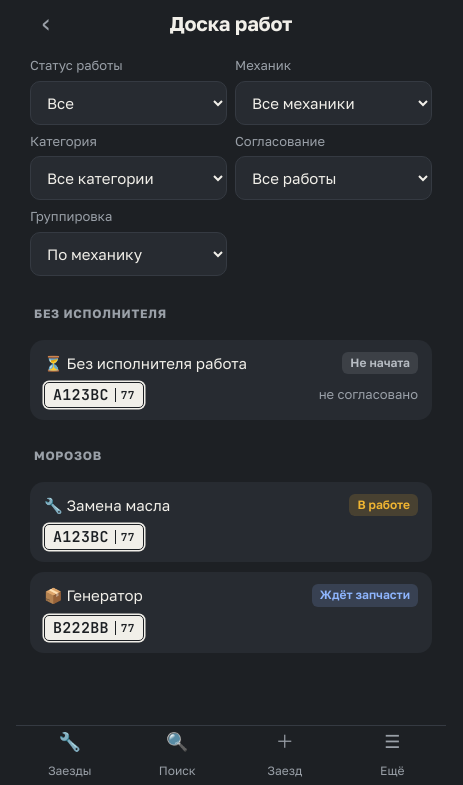
Test case: board filters go to the server
The image size is (463, 785).
Expected: the heading "Морозов" is shown, [34,448,102,463]
Select "Без исполнителя" in the dropdown labelled "Механик" at (334, 102), box [235,80,432,124]
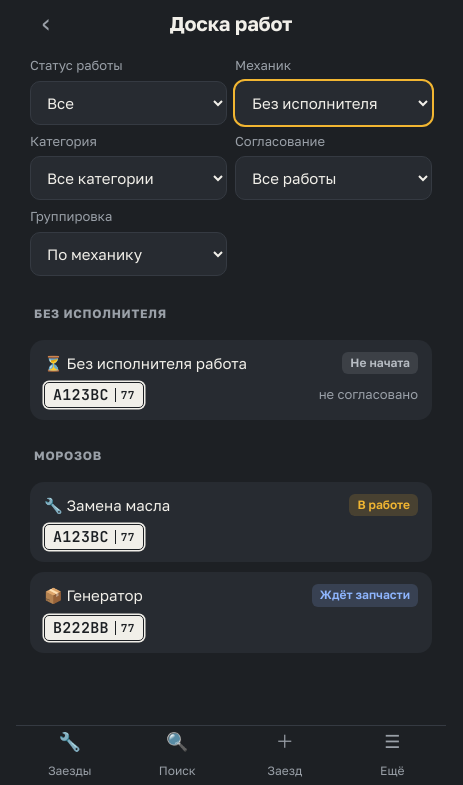
Select "Морозов" in the dropdown labelled "Механик" at (334, 102), box [235,80,432,124]
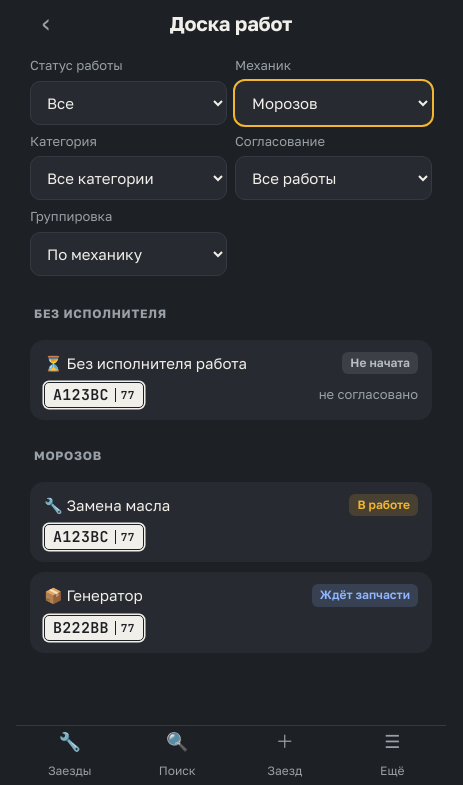
Select "Ждут запчасти" in the dropdown labelled "Статус работы" at (128, 102), box [30,80,227,124]
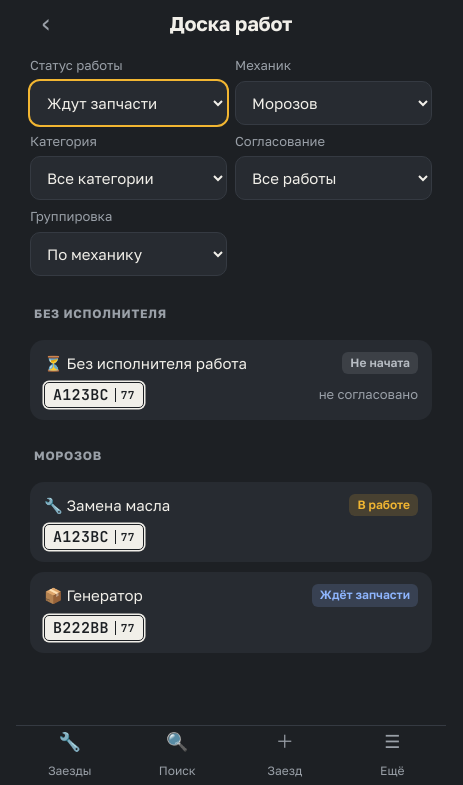
Select "Электрика" in the dropdown labelled "Категория" at (128, 178), box [30,156,227,200]
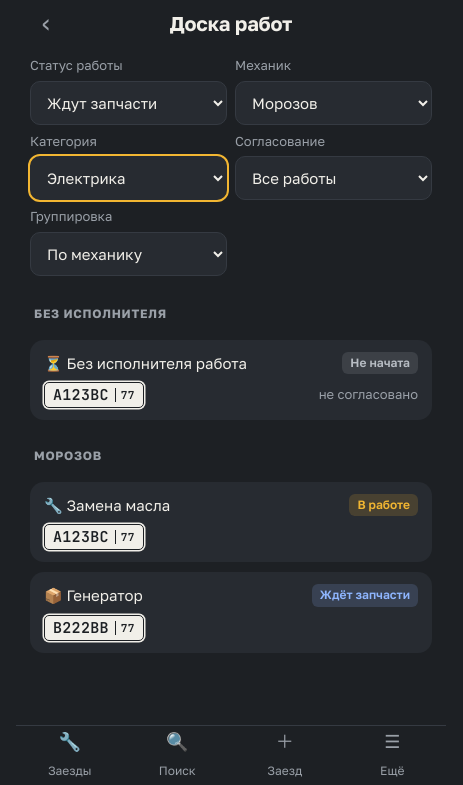
Select "Только не согласованные" in the dropdown labelled "Согласование" at (334, 178), box [235,156,432,200]
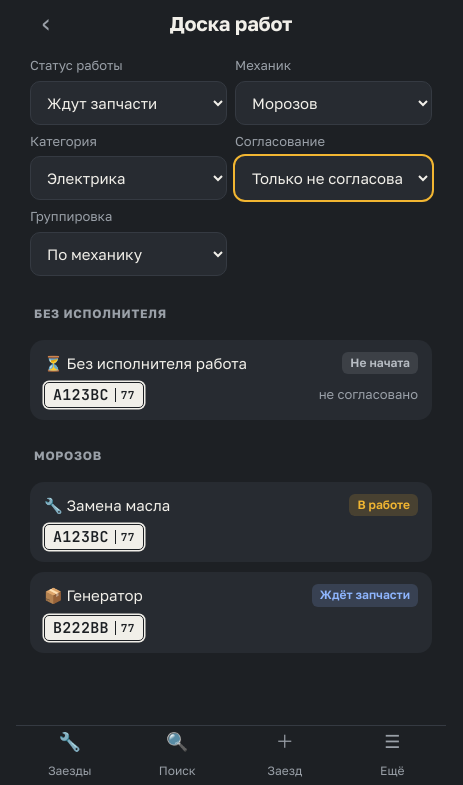
Select "По машине" in the dropdown labelled "Группировка" at (128, 254), box [30,232,227,276]
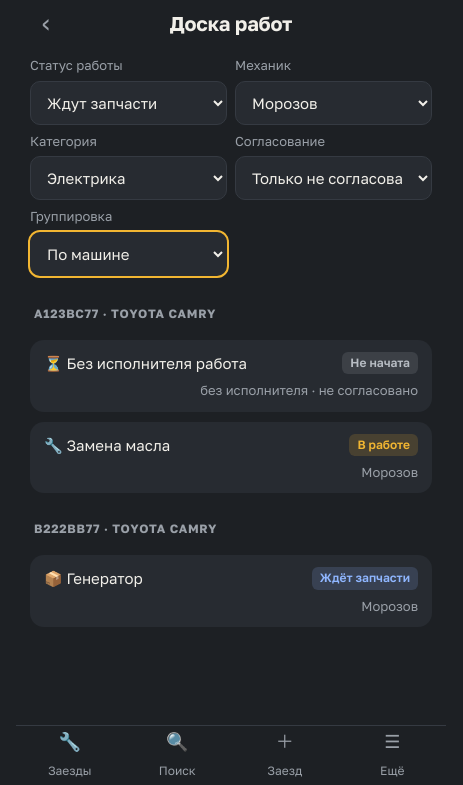
Expected: the heading "В222ВВ77 · Toyota Camry" is shown, [34,521,217,536]
